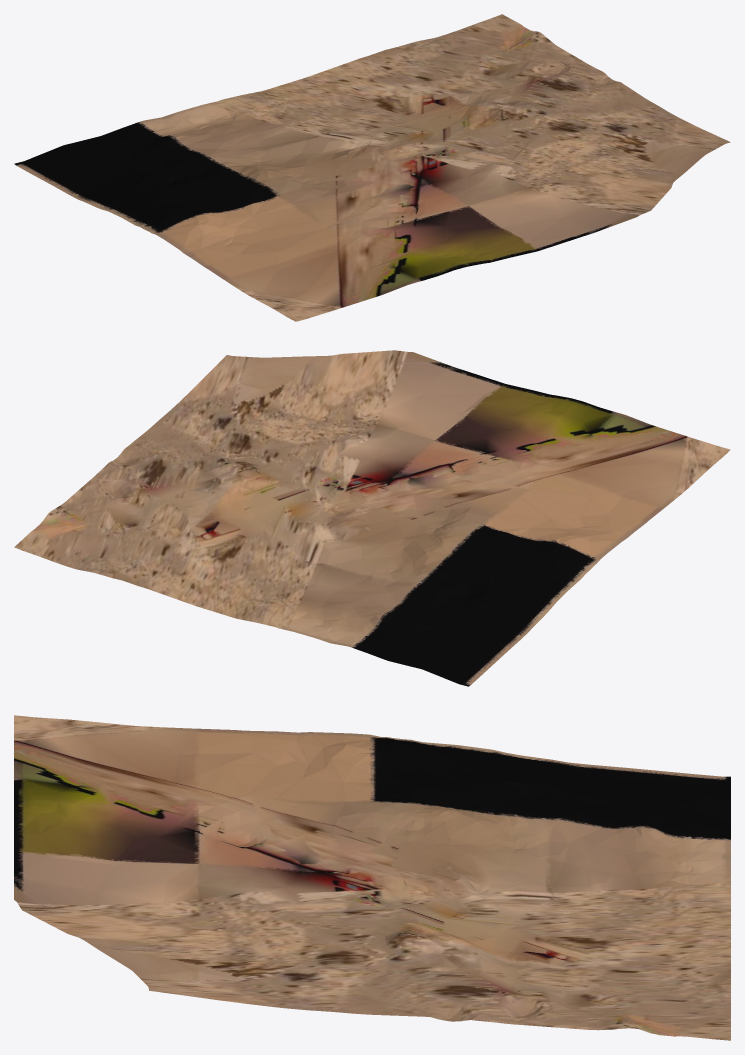
The picture shows the model from 3 angles, top to bottom: view 1: azimuth 30°, elevation 25°; view 2: azimuth 150°, elevation 25°; view 3: azimuth 270°, elevation 25°; orthographic projection. The views are drawn at different scales.
Bounding box in the file's own units: 4.18 × 0.5722 × 4.18.
2 materials, 2 textured.
